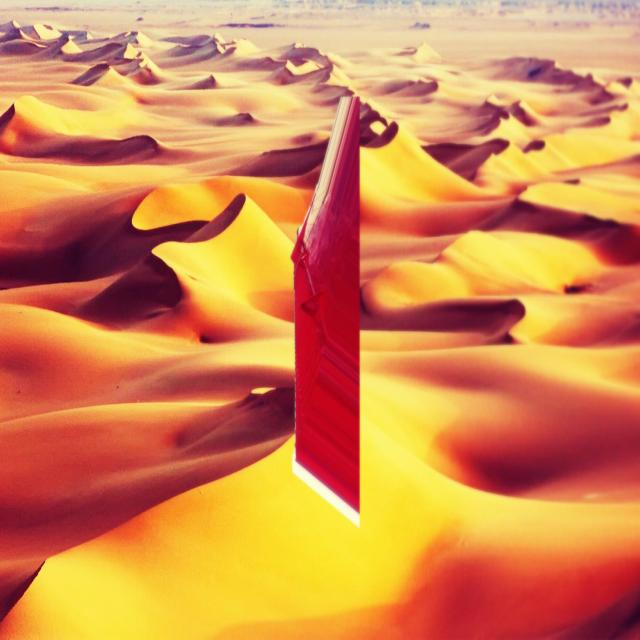airplane: (292, 93, 361, 527)
